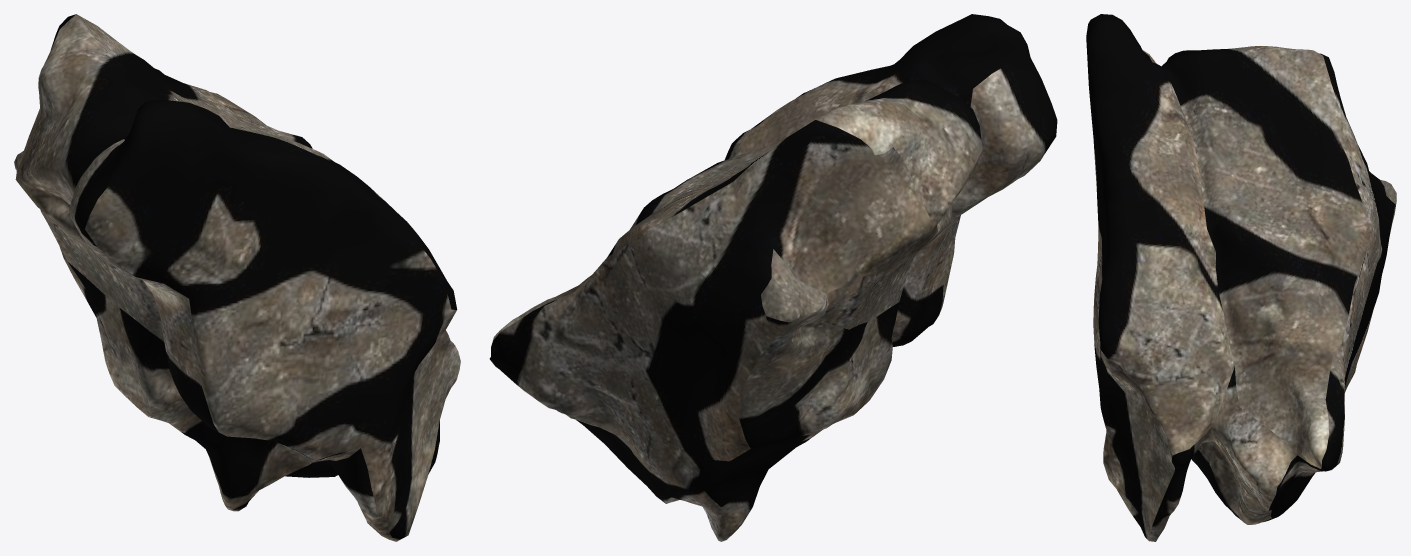
The model's file is rock5.glb.
The picture shows the model from 3 angles, left to right: view 1: azimuth 30°, elevation 25°; view 2: azimuth 150°, elevation 25°; view 3: azimuth 270°, elevation 25°; orthographic projection. The views are drawn at different scales.
Parts seen in each view (by area): view 1: Rock5; view 2: Rock5; view 3: Rock5.
Boxes of the visible parts, <box> form: Rock5: <box>14,14,460,541</box>; Rock5: <box>489,14,1057,541</box>; Rock5: <box>1086,14,1396,541</box>.
Bounding box in the file's own units: 4.83 × 5.11 × 3.38.
Materials: 1 (1 with a texture image).
